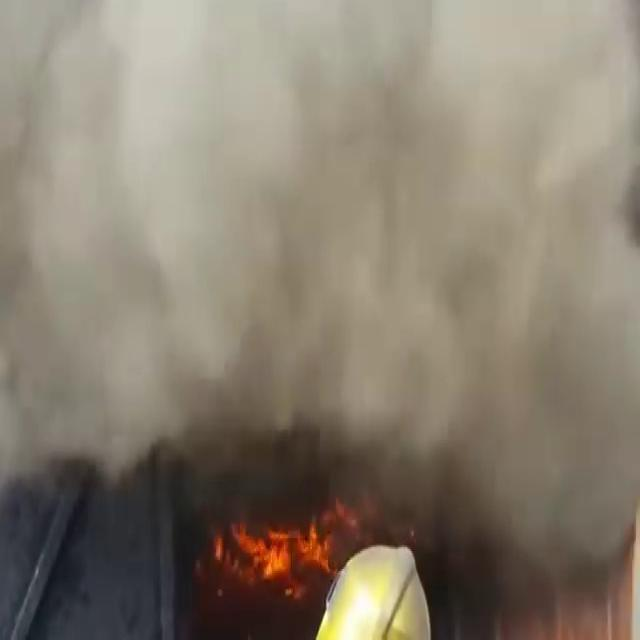Smoke: (0, 0, 640, 481), (208, 490, 346, 572)
